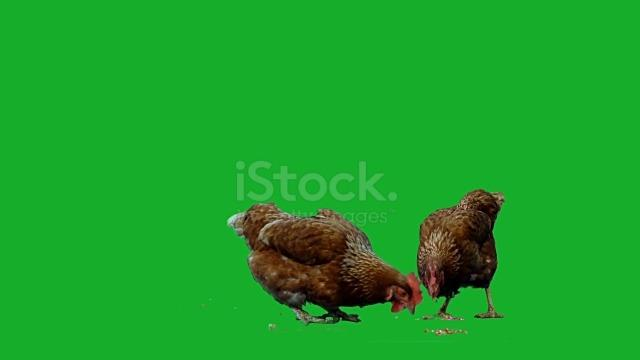Normal: (225, 199, 419, 317), (420, 182, 511, 327)
